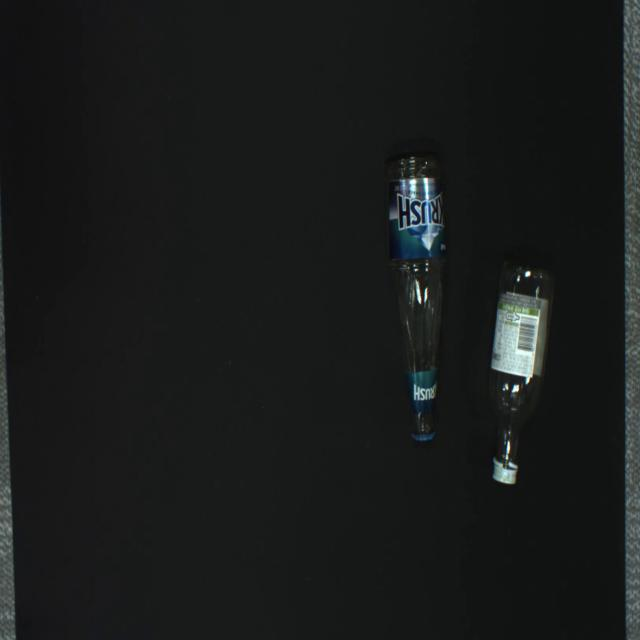beer-bottle: (386, 151, 448, 442)
soju-bottle: (489, 262, 555, 484)
